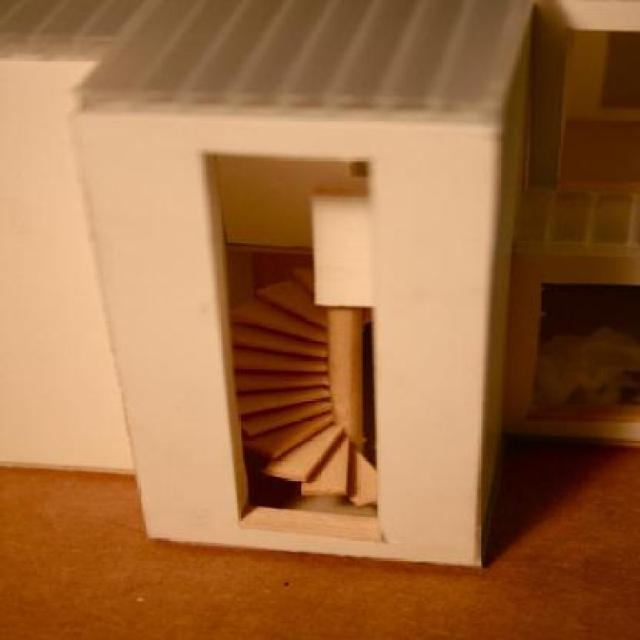stair: (230, 263, 382, 506)
